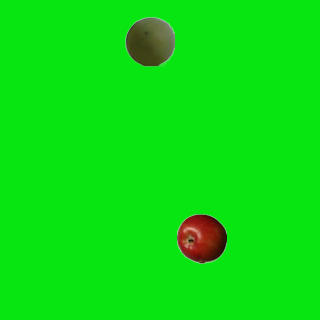Apple Braeburn: (176, 213, 226, 263)
Grape White 4: (124, 16, 174, 66)
